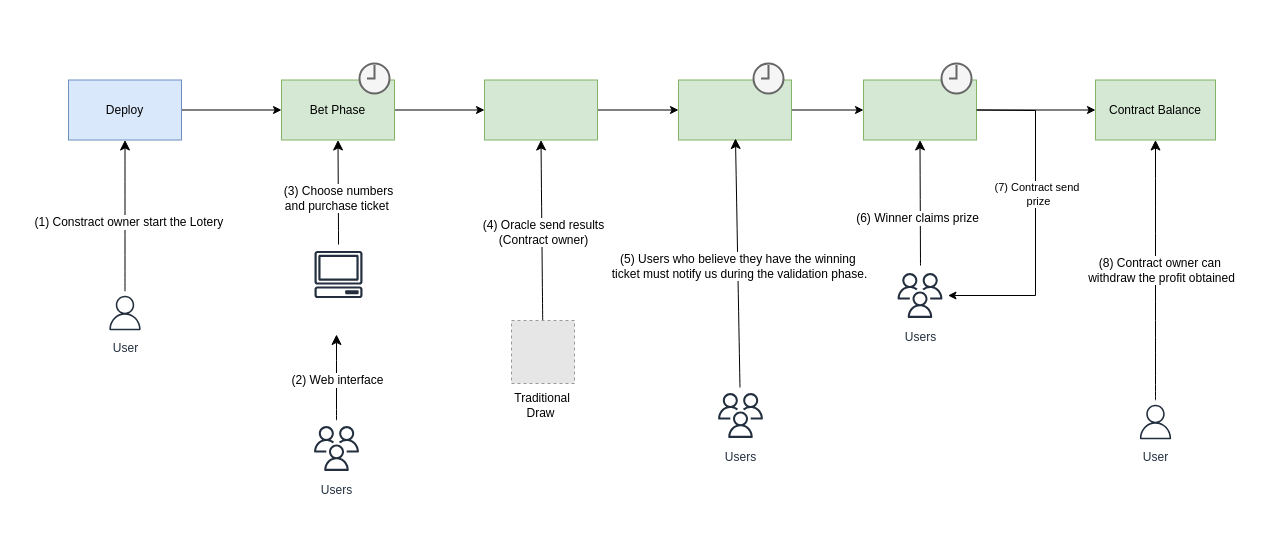
Image size: 1276x542. Some labels were removed from this diagram. Grey dashed boxes stand in for pictures. The shapes that lost their labels are listed below. From the top down, each one's centre as x and y in pixels, then its label:
pixel 541 109: Draw Phase
pixel 735 109: Validation Phase
pixel 919 109: Claim Phase
pixel 338 274: Client
